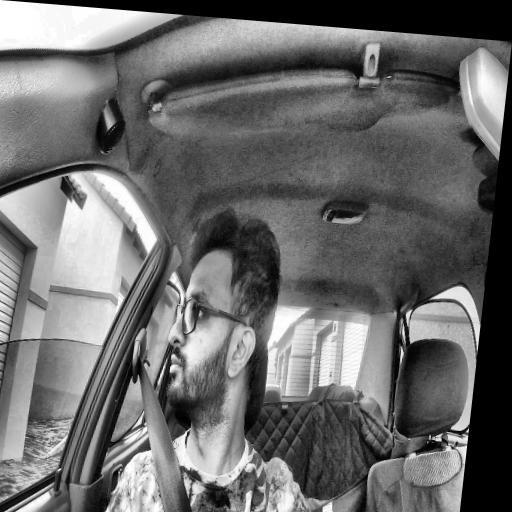awake: (160, 206, 288, 416)
